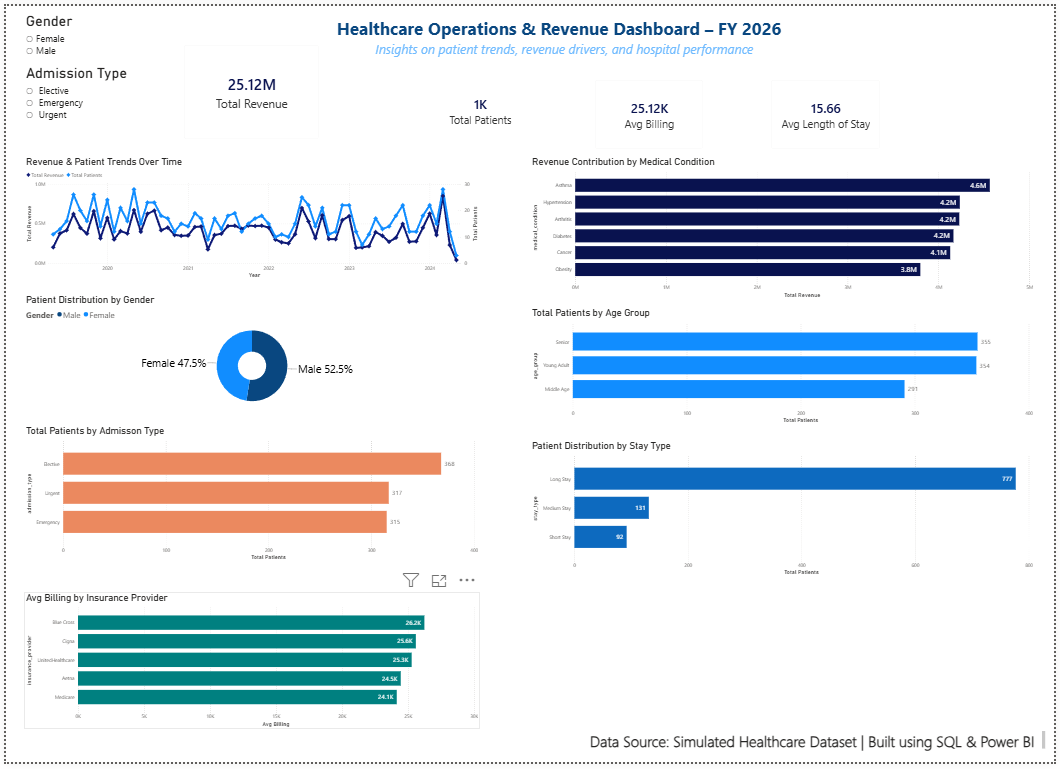

Layout of this report page (visuals, bound fields, positions):
{"tool":"powerbi","page":{"name":"Main Dashboard","canvas":[2620,1890],"ordinal":0},"visuals":[{"type":"cardVisual","fields":{"Data":["healthcare_dataset final.Total Patients"]},"box":[1032.5,157.5,305,207.5],"z":0},{"type":"cardVisual","fields":{"Data":["healthcare_dataset final.Avg Length of Stay"]},"box":[1895,167.5,307.5,207.5],"z":1000},{"type":"cardVisual","title":"Avg Billing","fields":{"Data":["healthcare_dataset final.Avg Billing"]},"box":[1455,167.5,305,207.5],"z":2000},{"type":"cardVisual","fields":{"Data":["healthcare_dataset final.Total Revenue"]},"box":[427.5,80,372.5,270],"z":3000},{"type":"lineChart","title":"Revenue & Patient Trends Over Time","fields":{"Y":["healthcare_dataset final.Total Revenue"],"Y2":["healthcare_dataset final.Total Patients"],"Category":["healthcare_dataset final.admission_month.Variation.Date Hierarchy.Year","healthcare_dataset final.admission_month.Variation.Date Hierarchy.Quarter","healthcare_dataset final.admission_month.Variation.Date Hierarchy.Month","healthcare_dataset final.admission_month.Variation.Date Hierarchy.Day"]},"box":[45,376,1140,312],"z":4000},{"type":"barChart","title":"Revenue Contribution by Medical Condition","fields":{"Category":["healthcare_dataset final.medical_condition"],"Y":["healthcare_dataset final.Total Revenue"]},"box":[1310,375,1262.5,360],"z":5000},{"type":"donutChart","title":"Patient Distribution by Gender","fields":{"Category":["healthcare_dataset final.gender"],"Y":["healthcare_dataset final.Total Patients"]},"box":[45,720,1140,296],"z":6000},{"type":"barChart","title":"Total Patients by Age Group","fields":{"Category":["healthcare_dataset final.age_group"],"Y":["healthcare_dataset final.Total Patients"]},"box":[1310.5,752,1262,296],"z":7000},{"type":"barChart","title":"Patient Distribution by Stay Type","fields":{"Category":["healthcare_dataset final.stay_type"],"Y":["healthcare_dataset final.Total Patients"]},"box":[1310.5,1084,1262,344],"z":8000},{"type":"barChart","title":"Total Patients by Admisson Type","fields":{"Category":["healthcare_dataset final.admission_type"],"Y":["healthcare_dataset final.Total Patients"]},"box":[45,1048,1140,344],"z":9000},{"type":"barChart","title":"Avg Billing by Insurance Provider","fields":{"Category":["healthcare_dataset final.insurance_provider"],"Y":["healthcare_dataset final.Avg Billing"]},"box":[45,1465,1140,342.5],"z":10000},{"type":"listSlicer","title":"Gender","fields":{"Values":["healthcare_dataset final.gender"]},"box":[45,15,207.5,130],"z":11000},{"type":"listSlicer","title":"Admission Type","fields":{"Values":["healthcare_dataset final.admission_type"]},"box":[45,145,305,167.5],"z":12000},{"type":"textbox","box":[320,22.5,2125,115],"z":13000},{"type":"textbox","box":[1454,1808,1148,64],"z":14000}]}

Visuals, with their boxes in screenshot pixels (x1, y1, x2, y2), scaled from the page's 2620x1890 canvas onto the 1060x769 screenshot:
cardVisual - healthcare_dataset final.Total Patients: crop(418, 64, 541, 149)
cardVisual - healthcare_dataset final.Avg Length of Stay: crop(767, 68, 891, 153)
"Avg Billing" cardVisual: crop(589, 68, 712, 153)
cardVisual - healthcare_dataset final.Total Revenue: crop(173, 33, 324, 142)
"Revenue & Patient Trends Over Time" lineChart: crop(18, 153, 479, 280)
"Revenue Contribution by Medical Condition" barChart: crop(530, 153, 1041, 299)
"Patient Distribution by Gender" donutChart: crop(18, 293, 479, 413)
"Total Patients by Age Group" barChart: crop(530, 306, 1041, 426)
"Patient Distribution by Stay Type" barChart: crop(530, 441, 1041, 581)
"Total Patients by Admisson Type" barChart: crop(18, 426, 479, 566)
"Avg Billing by Insurance Provider" barChart: crop(18, 596, 479, 735)
"Gender" listSlicer: crop(18, 6, 102, 59)
"Admission Type" listSlicer: crop(18, 59, 142, 127)
textbox: crop(129, 9, 989, 56)
textbox: crop(588, 736, 1053, 762)
